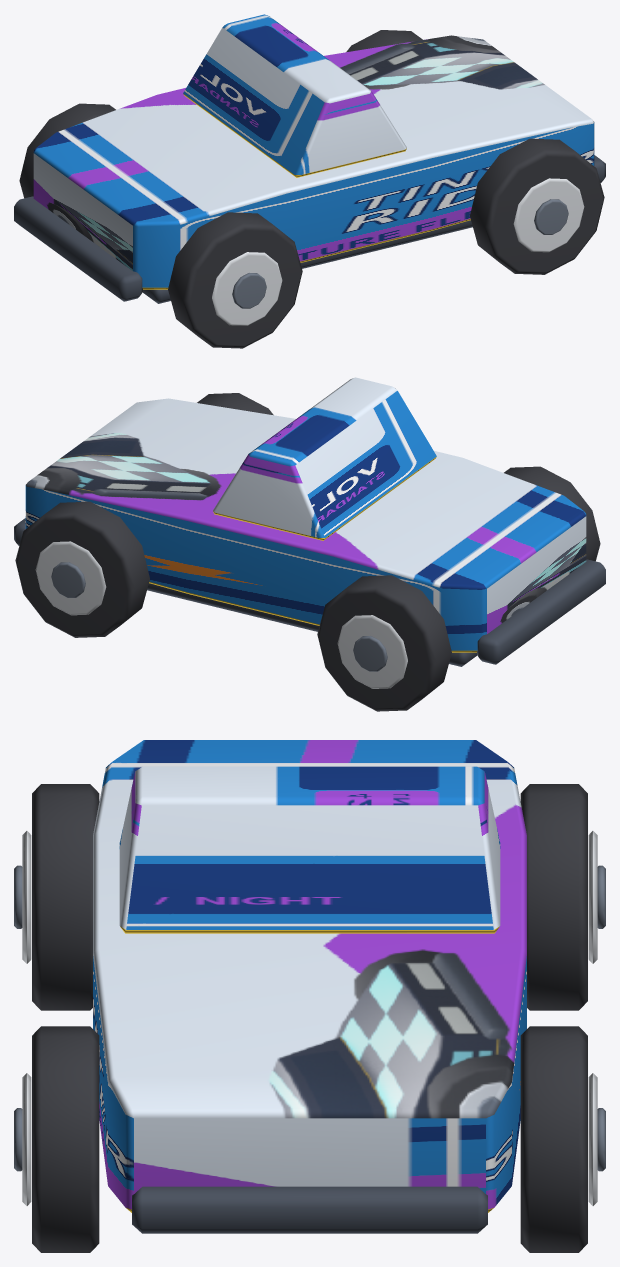
3 views of the same model, one above another, from view 1: azimuth 30°, elevation 25°; view 2: azimuth 150°, elevation 25°; view 3: azimuth 270°, elevation 25° (orthographic). The views are drawn at different scales.
Visible parts, largest first — view 1: FF-03_connected_shell, FF-03_cabin, Tire, Tire.002, front bumper, Rim.002, Rim, Tire.001, underbody, Hub.002, Hub, Tire.003; view 2: FF-03_connected_shell, FF-03_cabin, Tire.001, Tire.003, front bumper, Rim.003, Rim.001, Tire, underbody, Hub.003, Hub.001, Tire.002; view 3: FF-03_connected_shell, FF-03_cabin, rear bumper, Tire.002, Tire.003, Tire, Tire.001, Rim, Rim.001, Rim.002, Rim.003.
Boxes of the visible parts, bbox=[...] form: FF-03_connected_shell: bbox=[33, 35, 594, 289]; FF-03_cabin: bbox=[183, 14, 406, 177]; Tire: bbox=[168, 212, 302, 348]; Tire.002: bbox=[470, 138, 604, 274]; front bumper: bbox=[14, 196, 142, 301]; Rim.002: bbox=[513, 178, 584, 252]; Rim: bbox=[212, 252, 282, 325]; Tire.001: bbox=[19, 103, 115, 198]; underbody: bbox=[142, 220, 472, 303]; Hub.002: bbox=[534, 199, 568, 234]; Hub: bbox=[232, 273, 266, 308]; Tire.003: bbox=[346, 30, 422, 52]; FF-03_connected_shell: bbox=[25, 398, 586, 652]; FF-03_cabin: bbox=[213, 377, 436, 540]; Tire.001: bbox=[317, 575, 451, 711]; Tire.003: bbox=[15, 501, 149, 637]; front bumper: bbox=[477, 559, 605, 664]; Rim.003: bbox=[35, 541, 106, 615]; Rim.001: bbox=[337, 615, 407, 688]; Tire: bbox=[504, 466, 600, 561]; underbody: bbox=[147, 583, 477, 666]; Hub.003: bbox=[51, 562, 85, 597]; Hub.001: bbox=[353, 636, 387, 671]; Tire.002: bbox=[197, 393, 273, 415]; FF-03_connected_shell: bbox=[93, 740, 526, 1212]; FF-03_cabin: bbox=[119, 766, 500, 933]; rear bumper: bbox=[132, 1186, 487, 1233]; Tire.002: bbox=[32, 1026, 99, 1252]; Tire.003: bbox=[520, 1026, 587, 1252]; Tire: bbox=[32, 784, 99, 1010]; Tire.001: bbox=[520, 784, 587, 1010]; Rim: bbox=[22, 831, 31, 963]; Rim.001: bbox=[588, 831, 597, 963]; Rim.002: bbox=[22, 1073, 31, 1205]; Rim.003: bbox=[588, 1073, 597, 1205].
Size of the model in its own units: 359 by 140 by 229.
